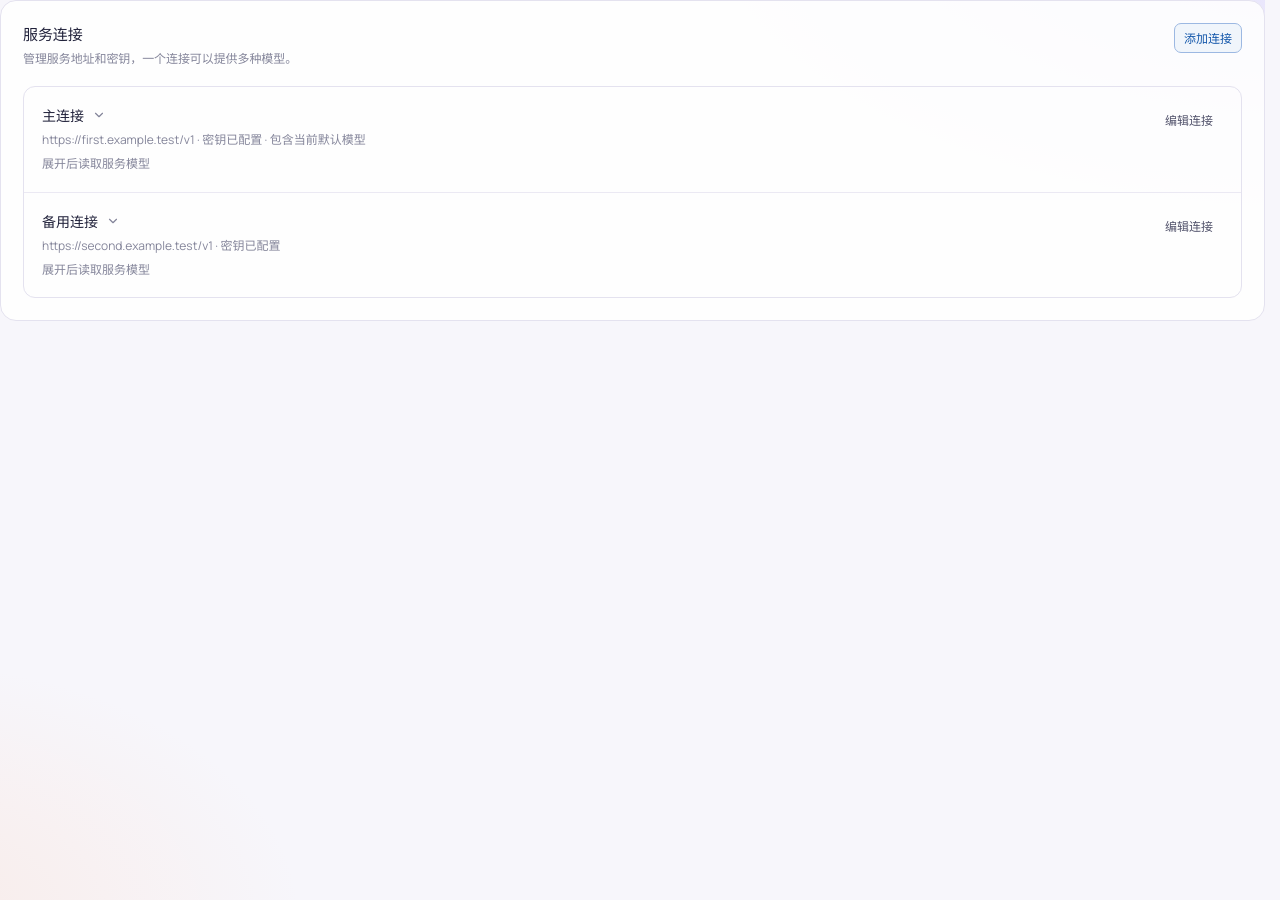
Test: ModelConnectionManager › labels inferred output types and prevents selecting unimplemented video
This screenshot has width=1280, height=900.
Click the button "主连接" at (63, 116), box [42, 105, 1143, 174]
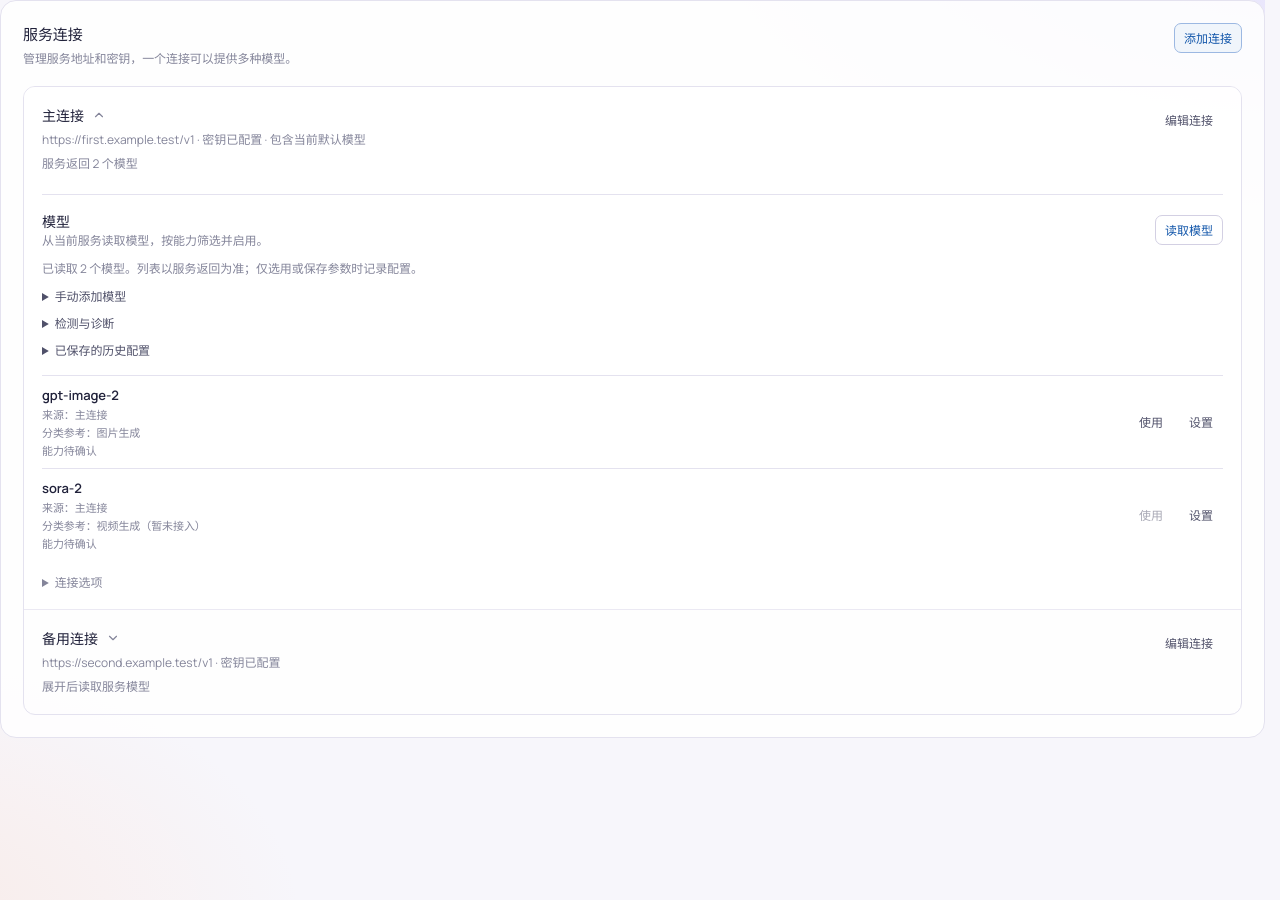
Result: the button with aria-label "sora-2 设置" is shown at [1179, 500, 1223, 530]
Result: the text "分类参考：视频生成（暂未接入）" is shown at [42, 518, 206, 533]
Result: the button with aria-label "sora-2 用于新对话" is disabled at [1129, 500, 1173, 530]
